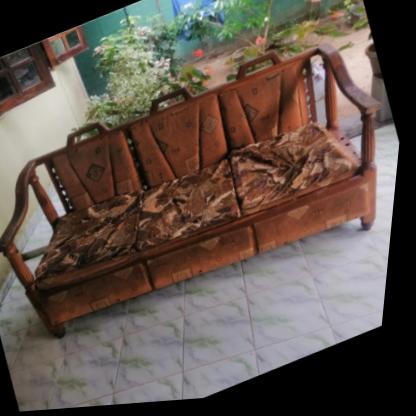Ceramic floor: (0, 114, 403, 413)
Sofa: (0, 19, 413, 374)
